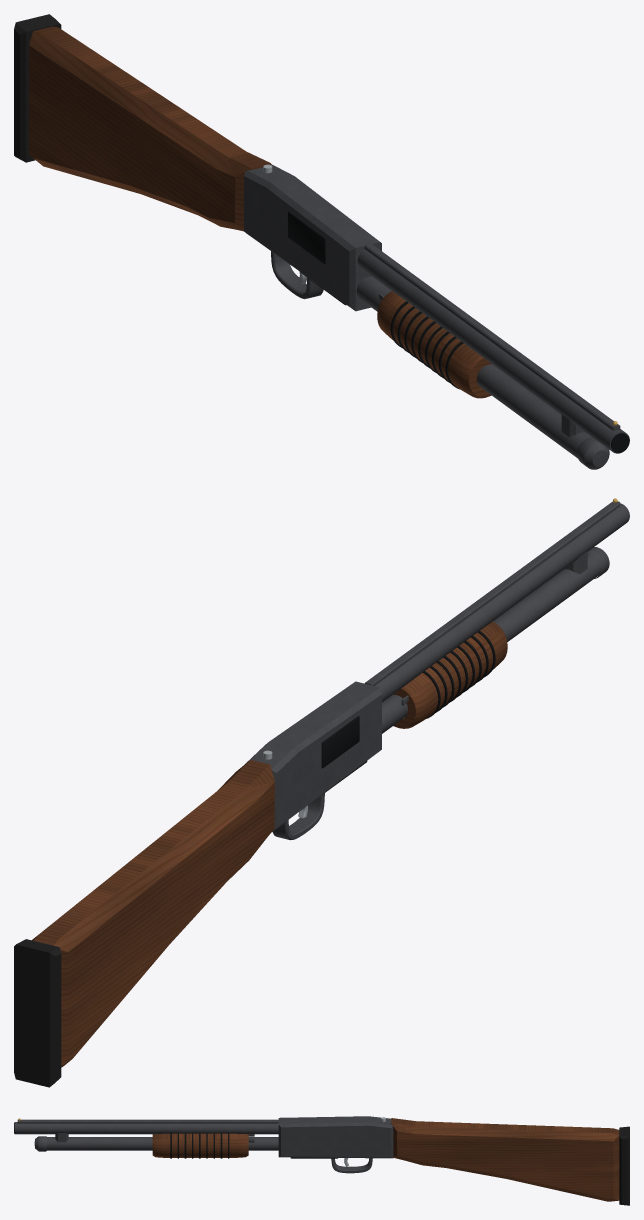
File: pump-shotgun.glb
3 renders of one model, top to bottom at view 1: azimuth 30°, elevation 25°; view 2: azimuth 150°, elevation 25°; view 3: azimuth 270°, elevation 25°, orthographic. The views are drawn at different scales.
Visible parts, largest first — view 1: Shotgun, Pump; view 2: Shotgun, Pump; view 3: Shotgun, Pump.
Part boxes in pixels (bbox=[...]): Shotgun: bbox=[14, 14, 629, 469]; Pump: bbox=[377, 291, 491, 398]; Shotgun: bbox=[14, 498, 629, 1087]; Pump: bbox=[393, 621, 507, 728]; Shotgun: bbox=[14, 1116, 629, 1205]; Pump: bbox=[152, 1133, 254, 1158].
Bounding box in the file's own units: 0.0492 × 0.153 × 1.03.
Materials: 6 (2 with a texture image).
